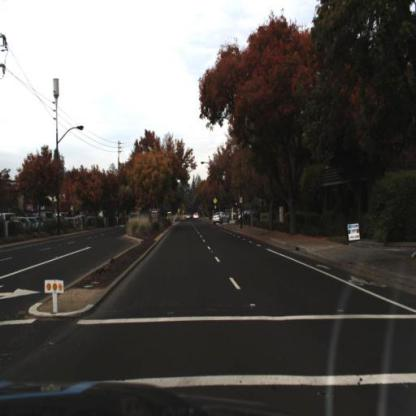car: (211, 210, 232, 226), (127, 212, 142, 228)
